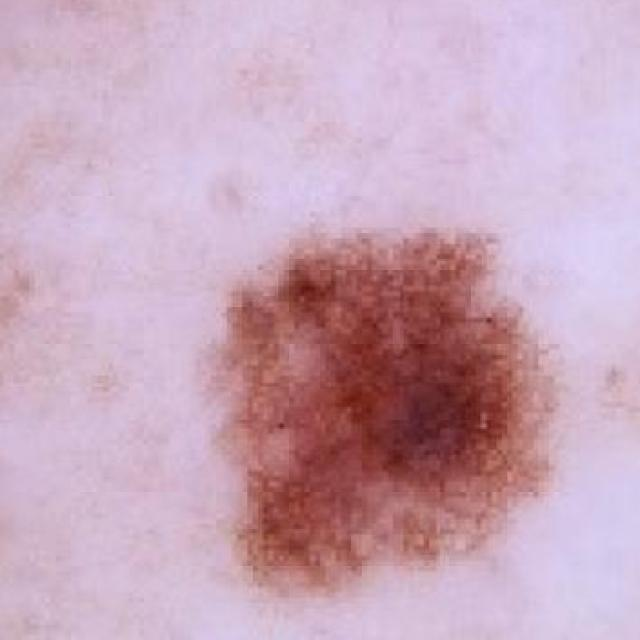MEL: (143, 153, 607, 640)
